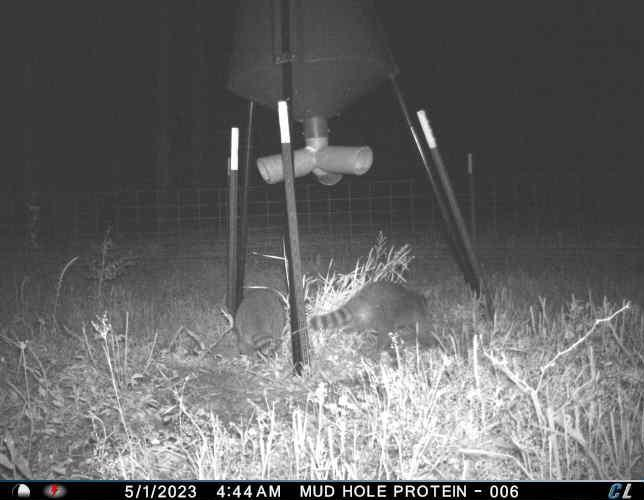Raccoon: (311, 278, 433, 361), (235, 286, 293, 360)
